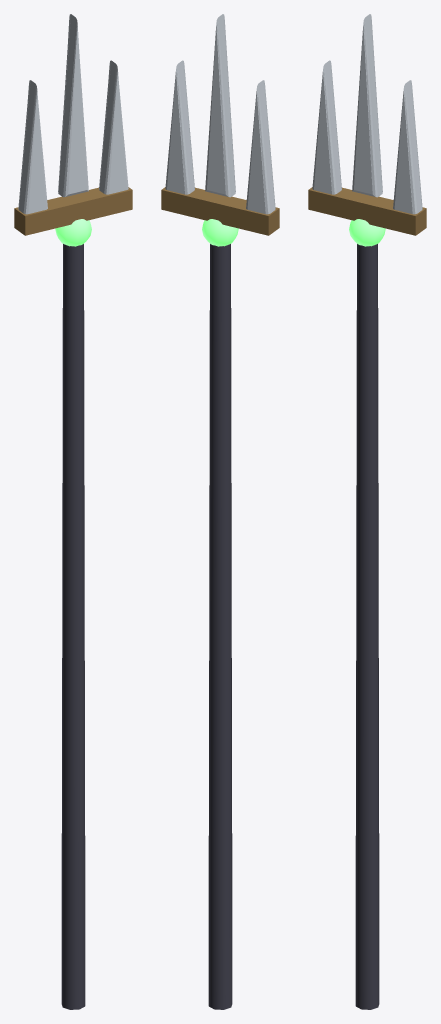
The model's file is spear_f2_d61eaf70.glb.
3 renders of one model, left to right at view 1: azimuth 30°, elevation 25°; view 2: azimuth 150°, elevation 25°; view 3: azimuth 330°, elevation 25°, orthographic.
Visible parts, largest first — view 1: m0_ow80_, m3_ow80_, m1_ow80_, m2_; view 2: m0_ow80_, m3_ow80_, m1_ow80_, m2_; view 3: m0_ow80_, m3_ow80_, m1_ow80_, m2_.
Part boxes in pixels (left/top/right/bottom): m0_ow80_: left=61, top=244, right=85, bottom=1009; m3_ow80_: left=18, top=14, right=128, bottom=214; m1_ow80_: left=14, top=187, right=132, bottom=235; m2_: left=55, top=219, right=91, bottom=246; m0_ow80_: left=208, top=244, right=232, bottom=1009; m3_ow80_: left=165, top=14, right=275, bottom=214; m1_ow80_: left=161, top=187, right=279, bottom=235; m2_: left=202, top=219, right=238, bottom=246; m0_ow80_: left=355, top=244, right=379, bottom=1009; m3_ow80_: left=312, top=14, right=422, bottom=214; m1_ow80_: left=308, top=187, right=426, bottom=235; m2_: left=349, top=219, right=385, bottom=246.
Size of the model in its own units: 0.4 by 3.52 by 0.1141.
